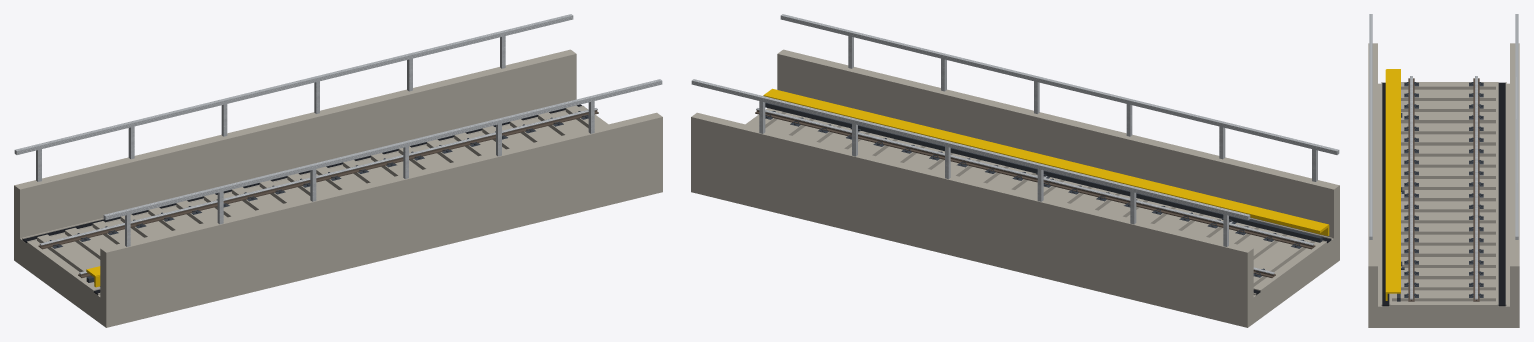
The model's file is bridge.glb.
The picture shows the model from 3 angles, left to right: view 1: azimuth 30°, elevation 25°; view 2: azimuth 150°, elevation 25°; view 3: azimuth 270°, elevation 25°; orthographic projection. The views are drawn at different scales.
Visible parts, largest first — view 1: bridge-edge-concrete (×2), bridge-deck, canonical, bridge-railing-top (×2), concrete sleepers, rail seats; view 2: bridge-edge-concrete (×2), canonical, bridge-deck, bridge-railing-top (×2), concrete sleepers, rail seats; view 3: canonical, concrete sleepers, bridge-deck, bridge-edge-concrete (×2), bridge-railing-top (×2), rail seats, spring clips, anchor bolts.
Part boxes in pixels (<box>): bridge-edge-concrete (×2): <box>14,49,662,301</box>; bridge-deck: <box>14,166,662,327</box>; canonical: <box>22,104,608,295</box>; bridge-railing-top (×2): <box>14,14,662,219</box>; concrete sleepers: <box>37,105,603,286</box>; rail seats: <box>52,116,588,275</box>; bridge-edge-concrete (×2): <box>691,49,1339,301</box>; canonical: <box>745,88,1331,295</box>; bridge-deck: <box>691,166,1339,327</box>; bridge-railing-top (×2): <box>691,14,1339,219</box>; concrete sleepers: <box>750,109,1315,286</box>; rail seats: <box>765,116,1301,277</box>; canonical: <box>1381,69,1506,306</box>; concrete sleepers: <box>1392,82,1495,301</box>; bridge-deck: <box>1368,83,1519,327</box>; bridge-edge-concrete (×2): <box>1368,43,1519,306</box>; bridge-railing-top (×2): <box>1369,14,1518,239</box>; rail seats: <box>1404,82,1483,297</box>; spring clips: <box>1406,82,1480,296</box>; anchor bolts: <box>1404,83,1483,296</box>.
Size of the model in its own units: 12 by 2.29 by 3.44.
7 materials, 1 textured.
